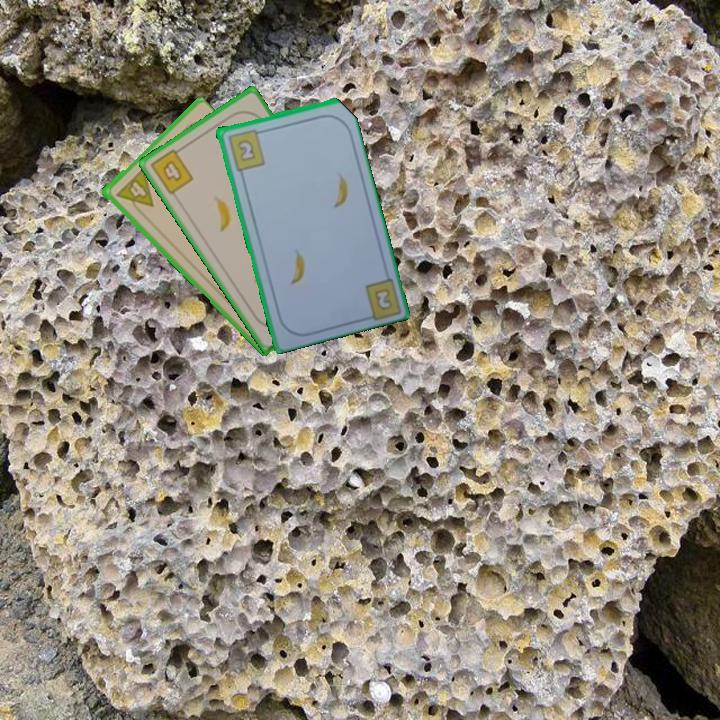2b: (224, 125, 267, 173), (373, 287, 393, 311)
4b: (146, 143, 196, 197)
4p: (111, 166, 156, 218)
